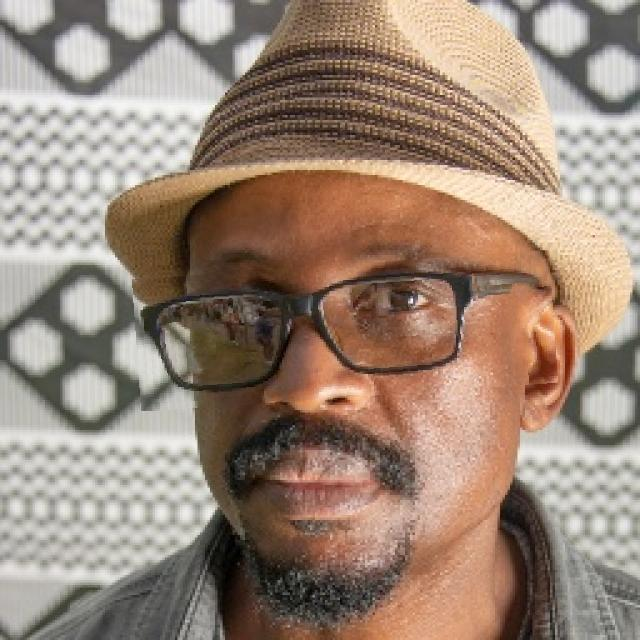glasses: (134, 257, 556, 404)
